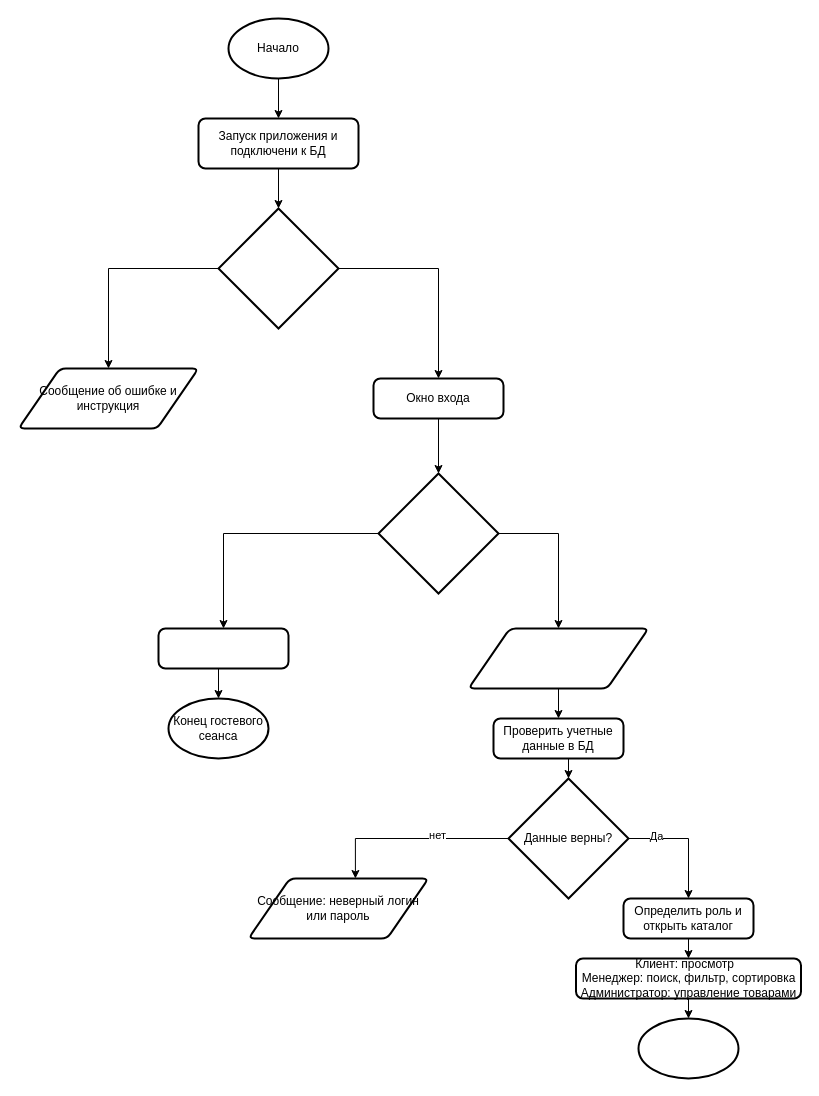
The diagram is 819 pixels wide and 1096 high, and some of its shapes have lost their labels. Each missing label, with the centre of its shape:
Ввод логина и пароля: the point at 558,658
Вход гостем?: the point at 438,533
Выход - окно входа: the point at 688,1048
Каталог: только просмотр: the point at 223,648
Подключение доступно?: the point at 278,268
